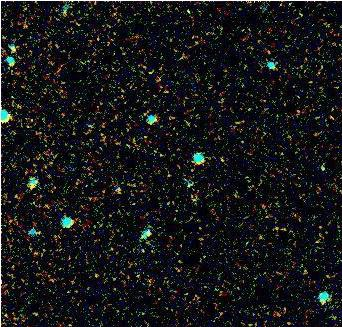star: (132, 217, 162, 247)
